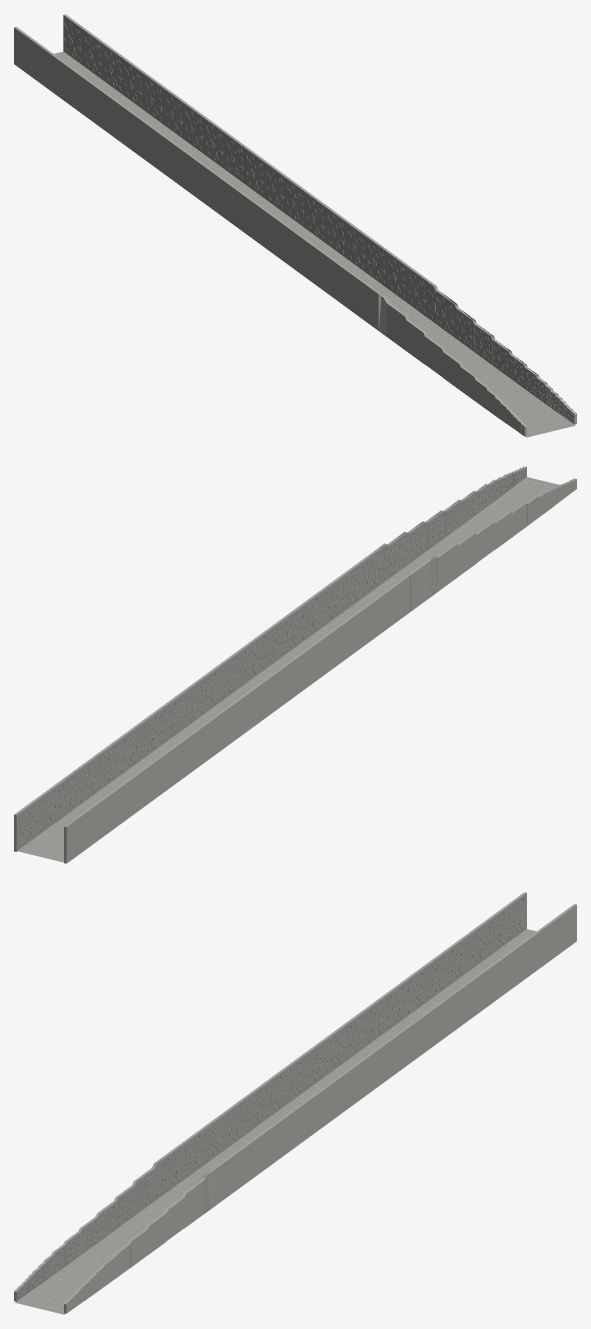
File: koridorv2 1.fbx
3 renders of one model, top to bottom at view 1: azimuth 30°, elevation 25°; view 2: azimuth 150°, elevation 25°; view 3: azimuth 330°, elevation 25°, orthographic.
Parts seen in each view (by area): view 1: Contrete Wall.003; view 2: Contrete Wall.003; view 3: Contrete Wall.003.
Part boxes in pixels (x1=…): Contrete Wall.003: x1=14, y1=14, x2=576, y2=437; Contrete Wall.003: x1=14, y1=466, x2=576, y2=863; Contrete Wall.003: x1=14, y1=892, x2=576, y2=1314.
Bounding box in the file's own units: 2928 × 1962 × 49509.
1 material, 1 textured.
